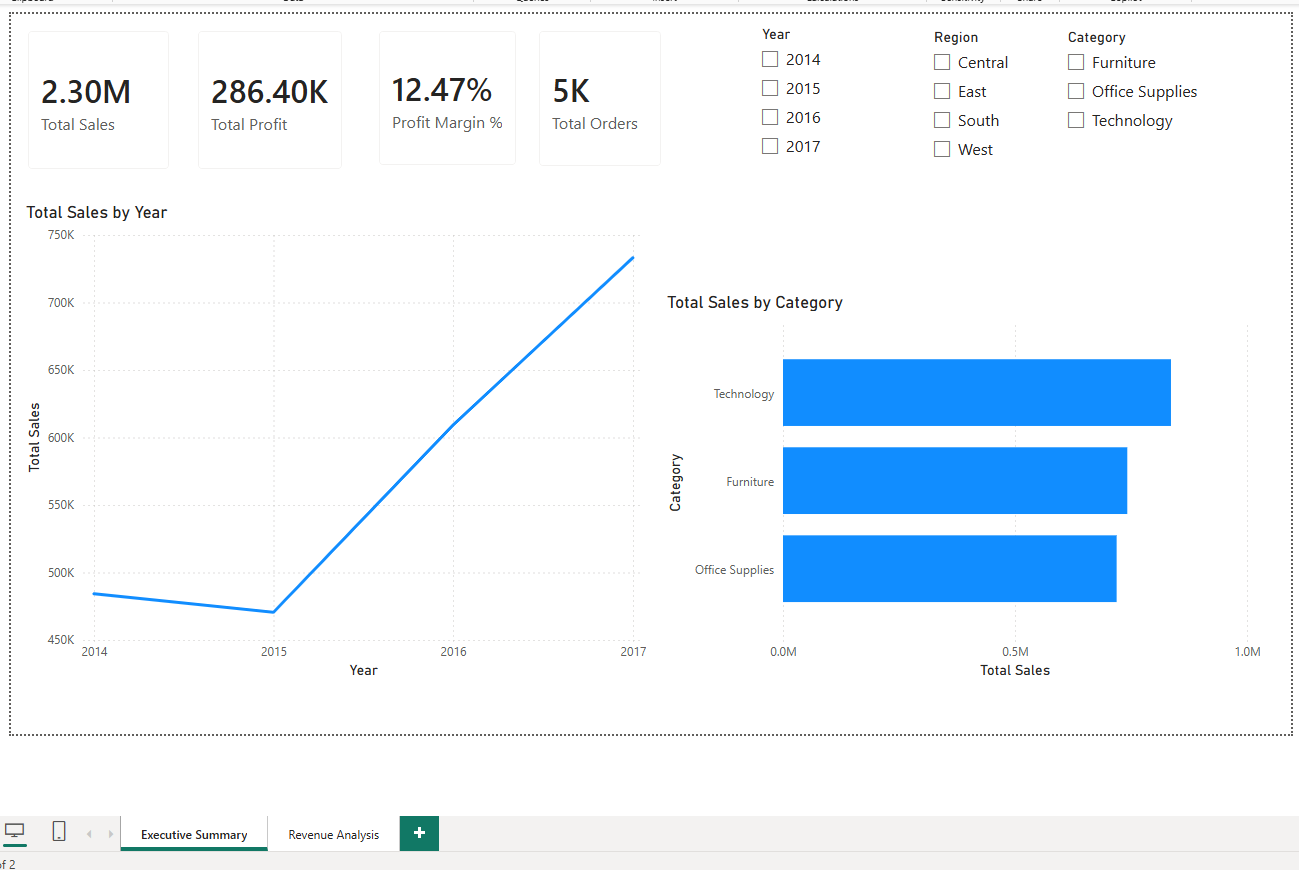

What the dashboard file says about the page in this screenshot:
{"tool":"powerbi","page":{"name":"Executive Summary","canvas":[1280,720],"ordinal":0},"visuals":[{"type":"cardVisual","fields":{"Data":["Sample_ Superstore.Total Sales"]},"box":[0,0,175,172],"z":0},{"type":"cardVisual","fields":{"Data":["Sample_ Superstore.Total Profit"]},"box":[170.3,0,177.6,171.7],"z":1},{"type":"cardVisual","fields":{"Data":["Sample_ Superstore.Profit Margin %"]},"box":[351,0,170.7,168.3],"z":2},{"type":"cardVisual","fields":{"Data":["Sample_ Superstore.Total Orders"]},"box":[511,0,156,168.5],"z":3},{"type":"lineChart","fields":{"Category":["DateTable.Date.Variation.Date Hierarchy.Year","DateTable.Date.Variation.Date Hierarchy.Quarter","DateTable.Date.Variation.Date Hierarchy.Month","DateTable.Date.Variation.Date Hierarchy.Day"],"Y":["Sample_ Superstore.Total Sales"]},"box":[10,188,630,481],"z":4},{"type":"clusteredBarChart","fields":{"Category":["Sample_ Superstore.Category"],"Y":["Sample_ Superstore.Total Sales"]},"box":[651,278,604,391],"z":5},{"type":"slicer","fields":{"Values":["DateTable.Year"]},"box":[738,7,185,154],"z":6},{"type":"slicer","fields":{"Values":["Sample_ Superstore.Region"]},"box":[910,10,162,148],"z":7},{"type":"slicer","fields":{"Values":["Sample_ Superstore.Category"]},"box":[1044,10,194,162],"z":8}]}

Visuals, with their boxes on the page's 1280x720 design canvas (x1, y1, x2, y2). These are canvas units, not pixel positions in the 1299x870 screenshot, which may show the page scaled, cropped or inside an application window:
cardVisual - Sample_ Superstore.Total Sales: 0,0,175,172
cardVisual - Sample_ Superstore.Total Profit: 170,0,348,172
cardVisual - Sample_ Superstore.Profit Margin %: 351,0,522,168
cardVisual - Sample_ Superstore.Total Orders: 511,0,667,168
lineChart - DateTable.Date.Variation.Date Hierarchy.Year x DateTable.Date.Variation.Date Hierarchy.Quarter: 10,188,640,669
clusteredBarChart - Sample_ Superstore.Category x Sample_ Superstore.Total Sales: 651,278,1255,669
slicer - DateTable.Year: 738,7,923,161
slicer - Sample_ Superstore.Region: 910,10,1072,158
slicer - Sample_ Superstore.Category: 1044,10,1238,172
